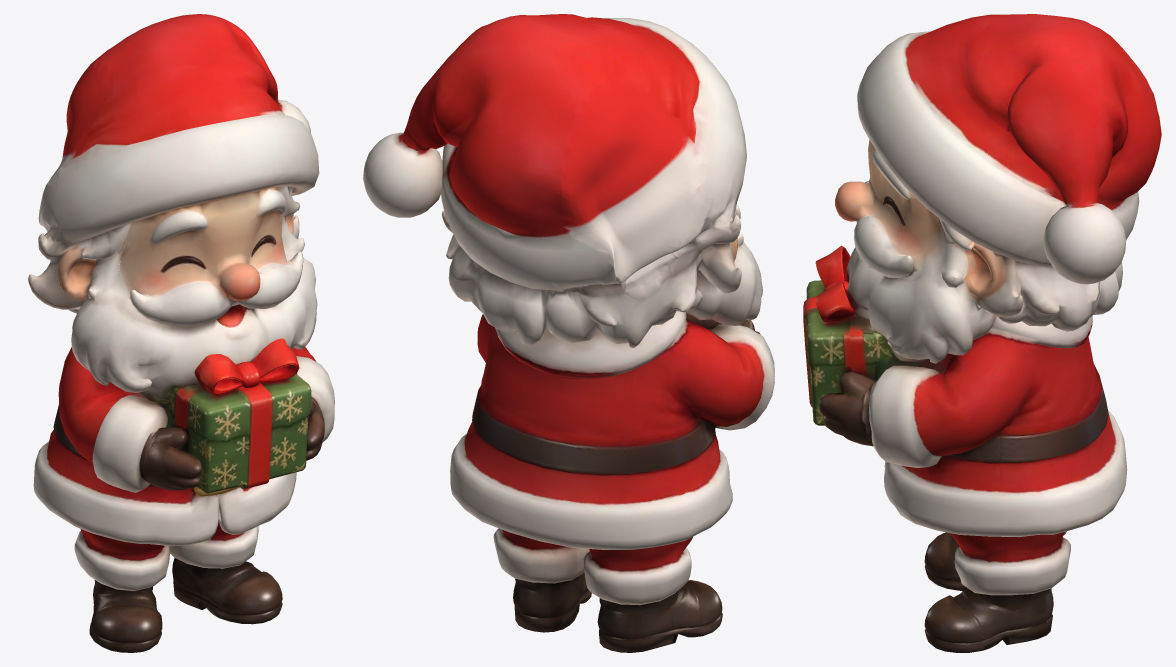
File: santa.glb
3 views of the same model, side by side, from view 1: azimuth 30°, elevation 25°; view 2: azimuth 150°, elevation 25°; view 3: azimuth 270°, elevation 25° (orthographic). The views are drawn at different scales.
Parts seen in each view (by area): view 1: Santa Original Hat Repaired.013; view 2: Santa Original Hat Repaired.013; view 3: Santa Original Hat Repaired.013.
Part boxes in pixels (left/top/right/bottom): Santa Original Hat Repaired.013: left=28, top=14, right=334, bottom=652; Santa Original Hat Repaired.013: left=363, top=14, right=774, bottom=652; Santa Original Hat Repaired.013: left=803, top=14, right=1161, bottom=652.
Bounding box in the file's own units: 0.5806 × 0.9995 × 0.5377.
2 materials, 1 textured.
